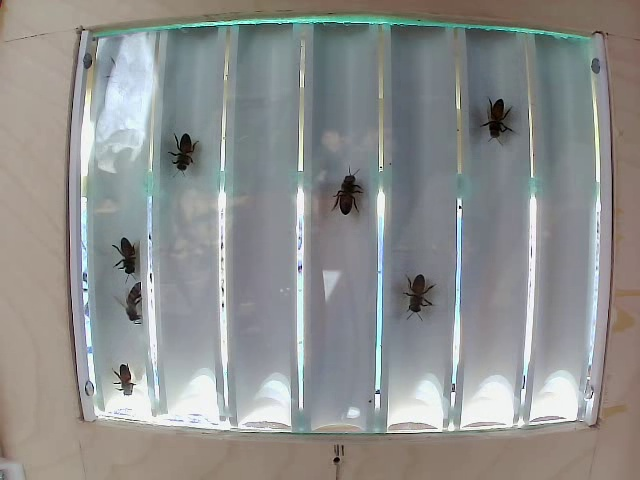bee: (401, 258, 447, 331), (159, 116, 200, 184), (111, 349, 161, 402), (474, 93, 516, 151), (97, 226, 148, 264), (111, 279, 154, 321), (336, 171, 366, 221)
